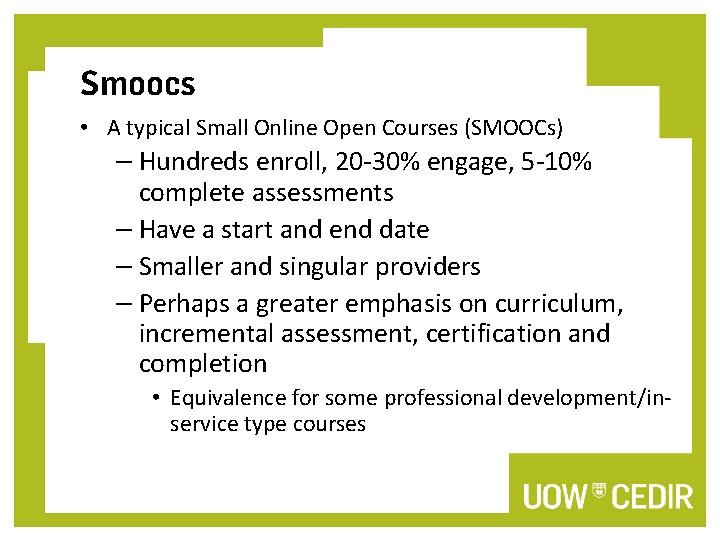paragraph: (74, 109, 687, 441)
title: (71, 62, 212, 104)
